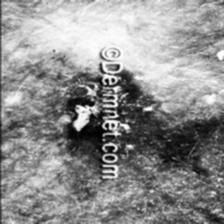Potentially Malignant Skin Tumors: (61, 76, 100, 162), (119, 72, 155, 150)
